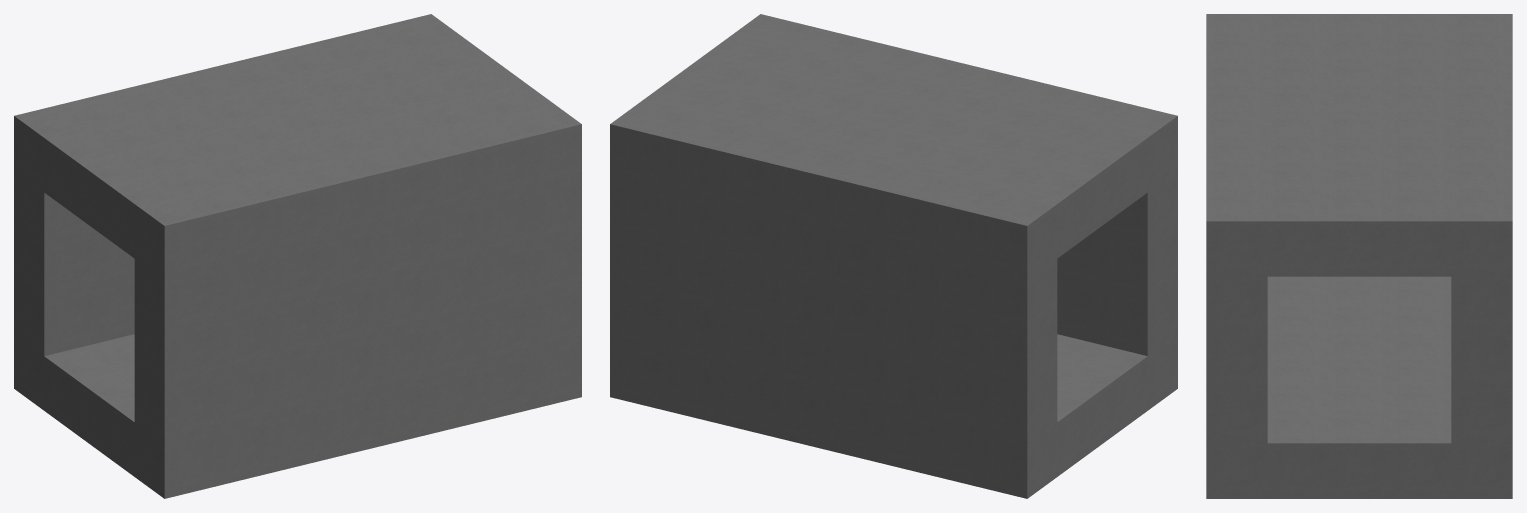
Rendered from corridor1.fbx.
The picture shows the model from 3 angles, left to right: view 1: azimuth 30°, elevation 25°; view 2: azimuth 150°, elevation 25°; view 3: azimuth 270°, elevation 25°; orthographic projection.
Parts seen in each view (by area): view 1: CubeGridToolOutput; view 2: CubeGridToolOutput; view 3: CubeGridToolOutput.
Part boxes in pixels (left/top/right/bottom): CubeGridToolOutput: left=14, top=14, right=581, bottom=498; CubeGridToolOutput: left=610, top=14, right=1177, bottom=498; CubeGridToolOutput: left=1206, top=14, right=1512, bottom=498.
Bounding box in the file's own units: 800 × 500 × 500.
1 material, 1 textured.
